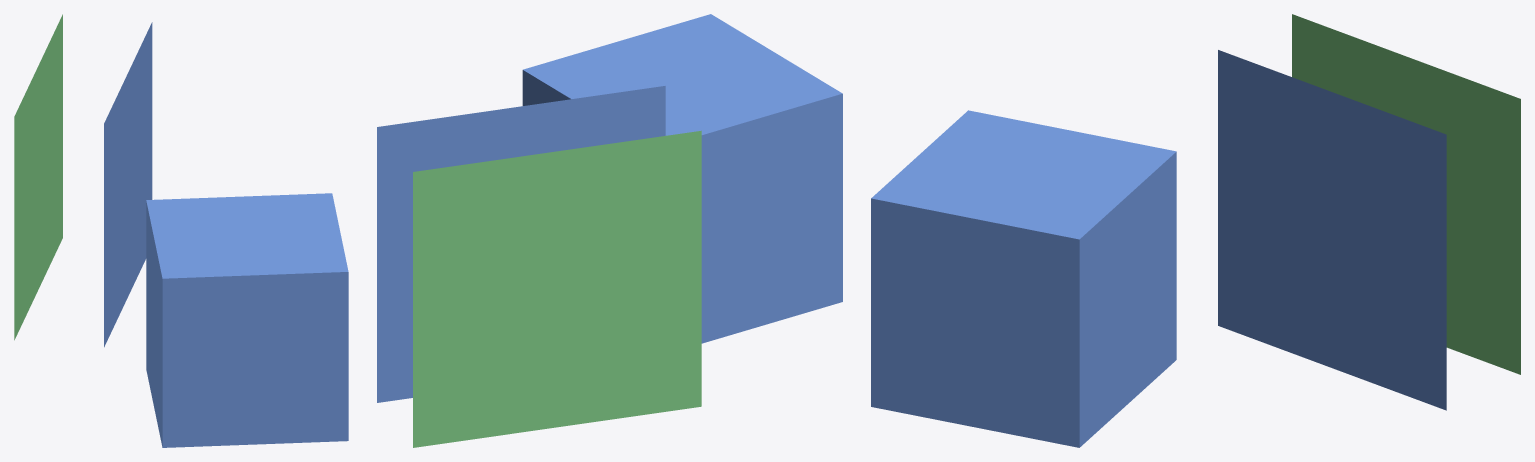
Rendered from testScene_overlapping.dae.
3 views of the same model, side by side, from view 1: azimuth 30°, elevation 25°; view 2: azimuth 150°, elevation 25°; view 3: azimuth 270°, elevation 25° (orthographic). The views are drawn at different scales.
Parts seen in each view (by area): view 1: Cube_002, Plane_003, Plane_002; view 2: Plane_003, Cube_002, Plane_002; view 3: Cube_002, Plane_002, Plane_003.
Part boxes in pixels (x1=…): Cube_002: x1=146, y1=193, x2=348, y2=447; Plane_003: x1=14, y1=14, x2=62, y2=340; Plane_002: x1=104, y1=22, x2=152, y2=347; Plane_003: x1=413, y1=130, x2=701, y2=447; Cube_002: x1=522, y1=14, x2=842, y2=343; Plane_002: x1=377, y1=86, x2=665, y2=402; Cube_002: x1=871, y1=110, x2=1176, y2=447; Plane_002: x1=1218, y1=50, x2=1446, y2=410; Plane_003: x1=1292, y1=14, x2=1520, y2=374.
Size of what is drawn, in the model's own units: 1.43 by 2.83 by 1.41.
